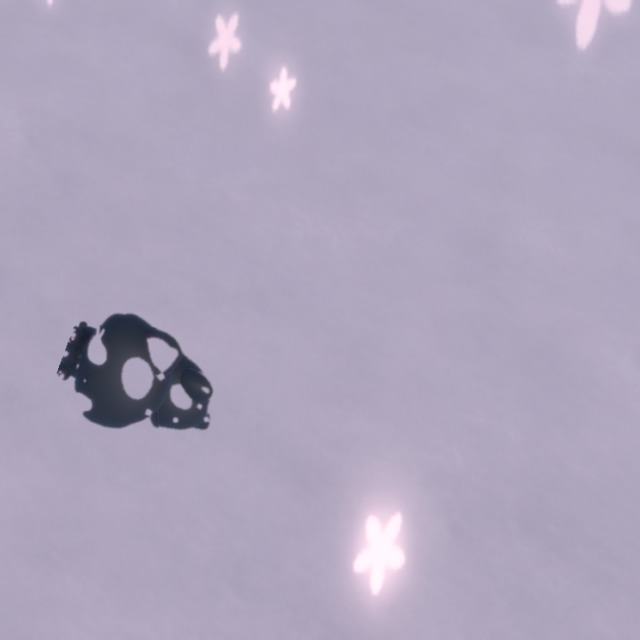urso_preto: (40, 291, 249, 476)
